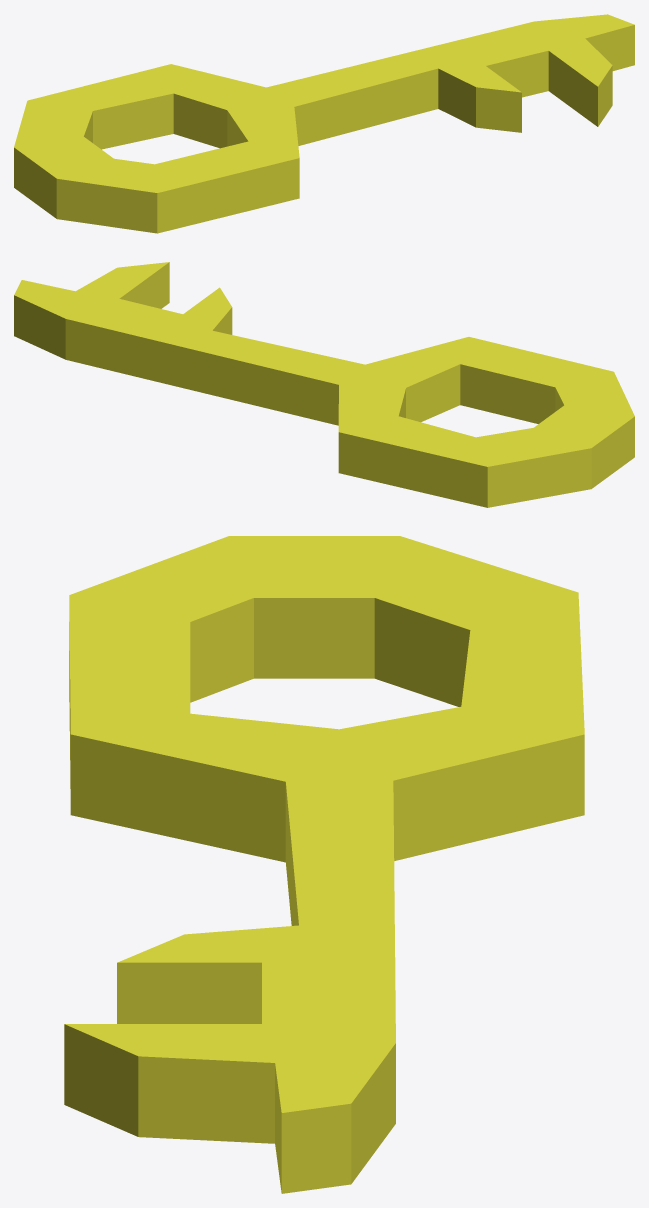
File: key.glb
3 views of the same model, one above another, from view 1: azimuth 30°, elevation 25°; view 2: azimuth 150°, elevation 25°; view 3: azimuth 270°, elevation 25° (orthographic). The views are drawn at different scales.
Parts seen in each view (by area): view 1: Plane; view 2: Plane; view 3: Plane.
Boxes of the visible parts, x1,y1,x2,y2 form: Plane: [14, 14, 634, 233]; Plane: [14, 262, 634, 507]; Plane: [64, 536, 584, 1193].
Bounding box in the file's own units: 0.2145 × 0.014 × 0.0818.
